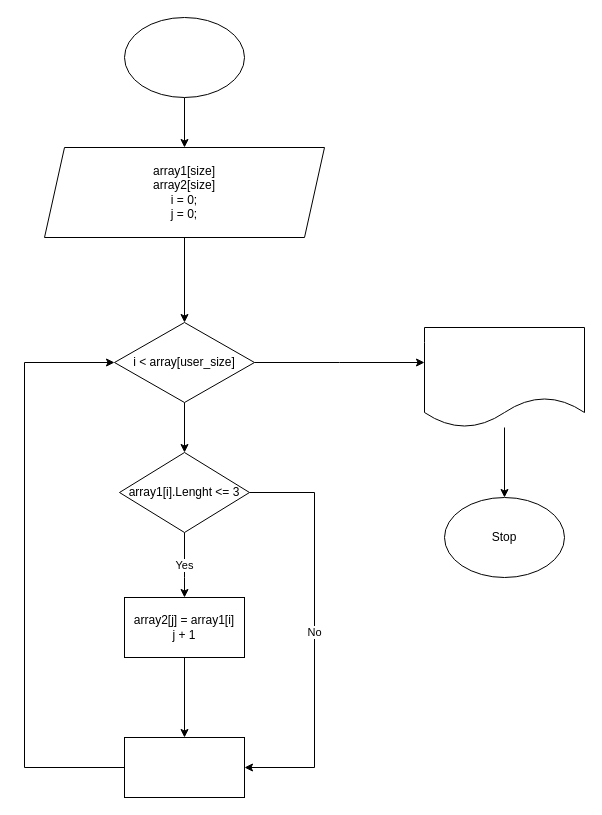
The diagram is 602 pixels wide and 815 high, and some of its shapes have lost their labels. Here are the shapes that lost their labels. From the top down, the centre of each, then its label:
At (x=184, y=57): "Start".
At (x=504, y=377): "array2".
At (x=184, y=767): "i + 1".
